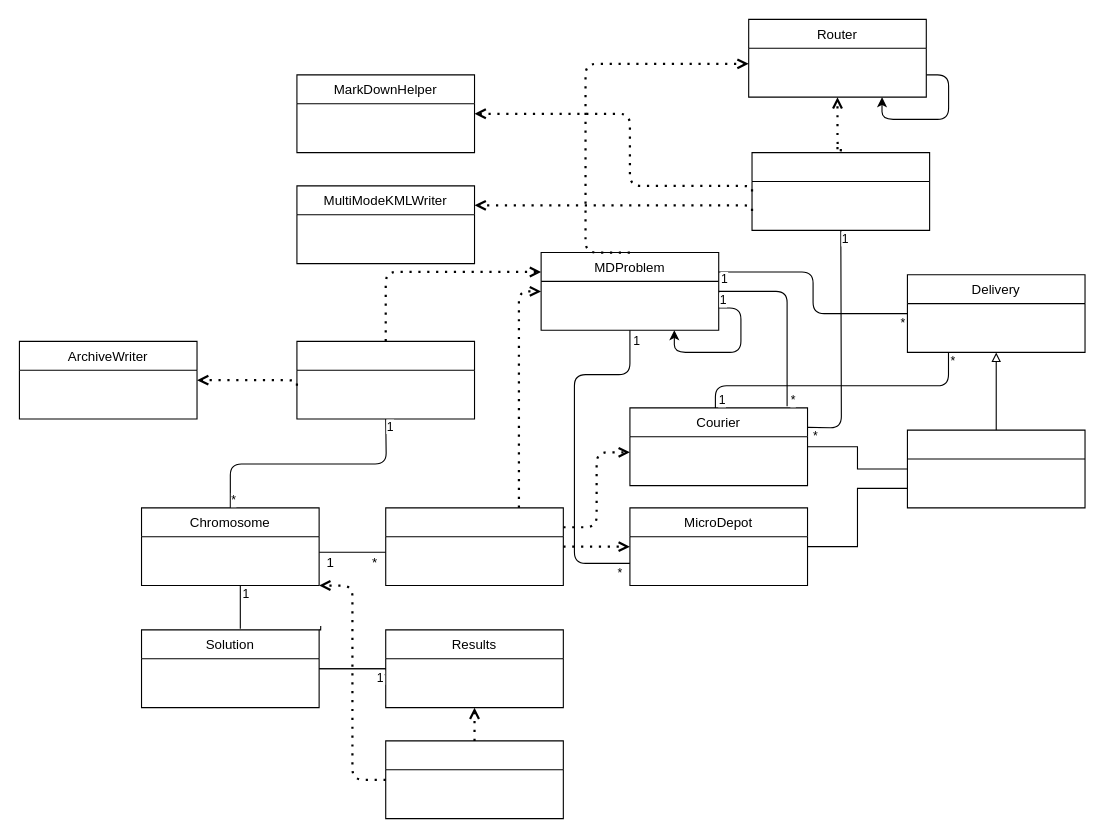
This 1104x838 diagram has some shape labels left out. Here are the shapes that lost their labels. From the top down, the centre of each, then its label:
At (840,191): "Model".
At (385,379): "MAPElites".
At (995,468): "SubTour".
At (474,546): "Gene".
At (474,779): "KeyGen".
